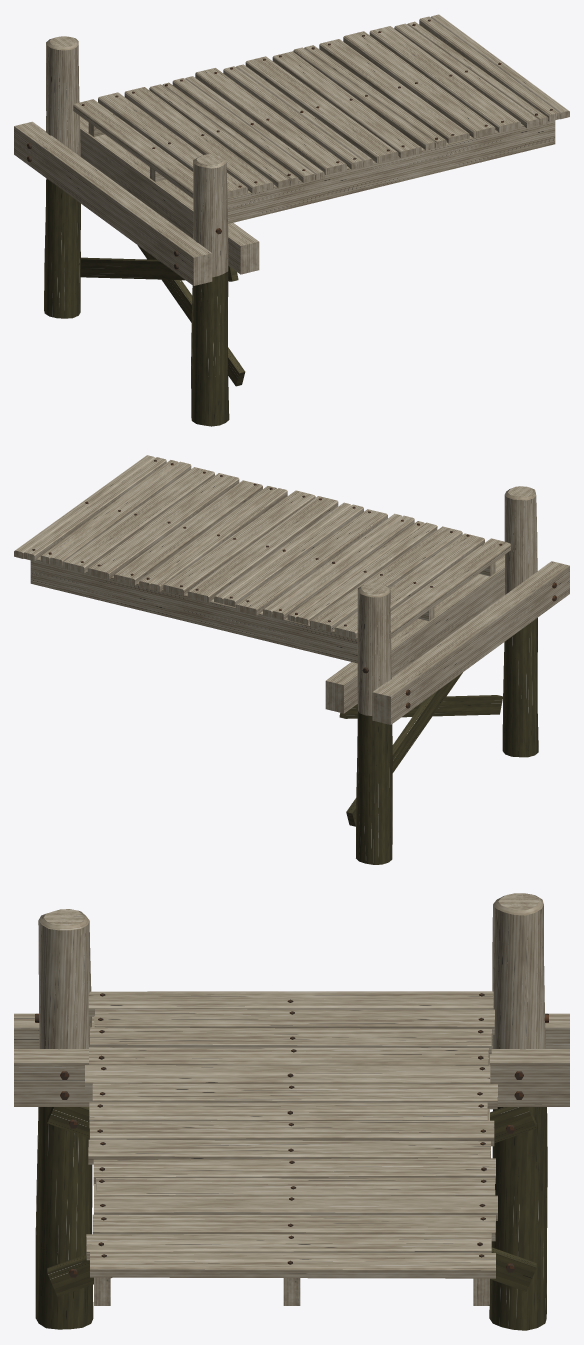
3 renders of one model, top to bottom at view 1: azimuth 30°, elevation 25°; view 2: azimuth 150°, elevation 25°; view 3: azimuth 270°, elevation 25°, orthographic. The views are drawn at different scales.
Visible parts, largest first — view 1: timber, wet; view 2: timber, wet; view 3: timber, wet, iron.
Part boxes in pixels (<box>): timber: <box>14,14,569,285</box>; wet: <box>44,178,245,426</box>; timber: <box>14,455,569,724</box>; wet: <box>339,617,538,864</box>; timber: <box>14,893,569,1305</box>; wet: <box>35,1107,547,1330</box>; iron: <box>35,993,548,1277</box>.
Size of the model in its own units: 3.27 by 2.08 by 2.52.
Materials: 3 (3 with a texture image).
